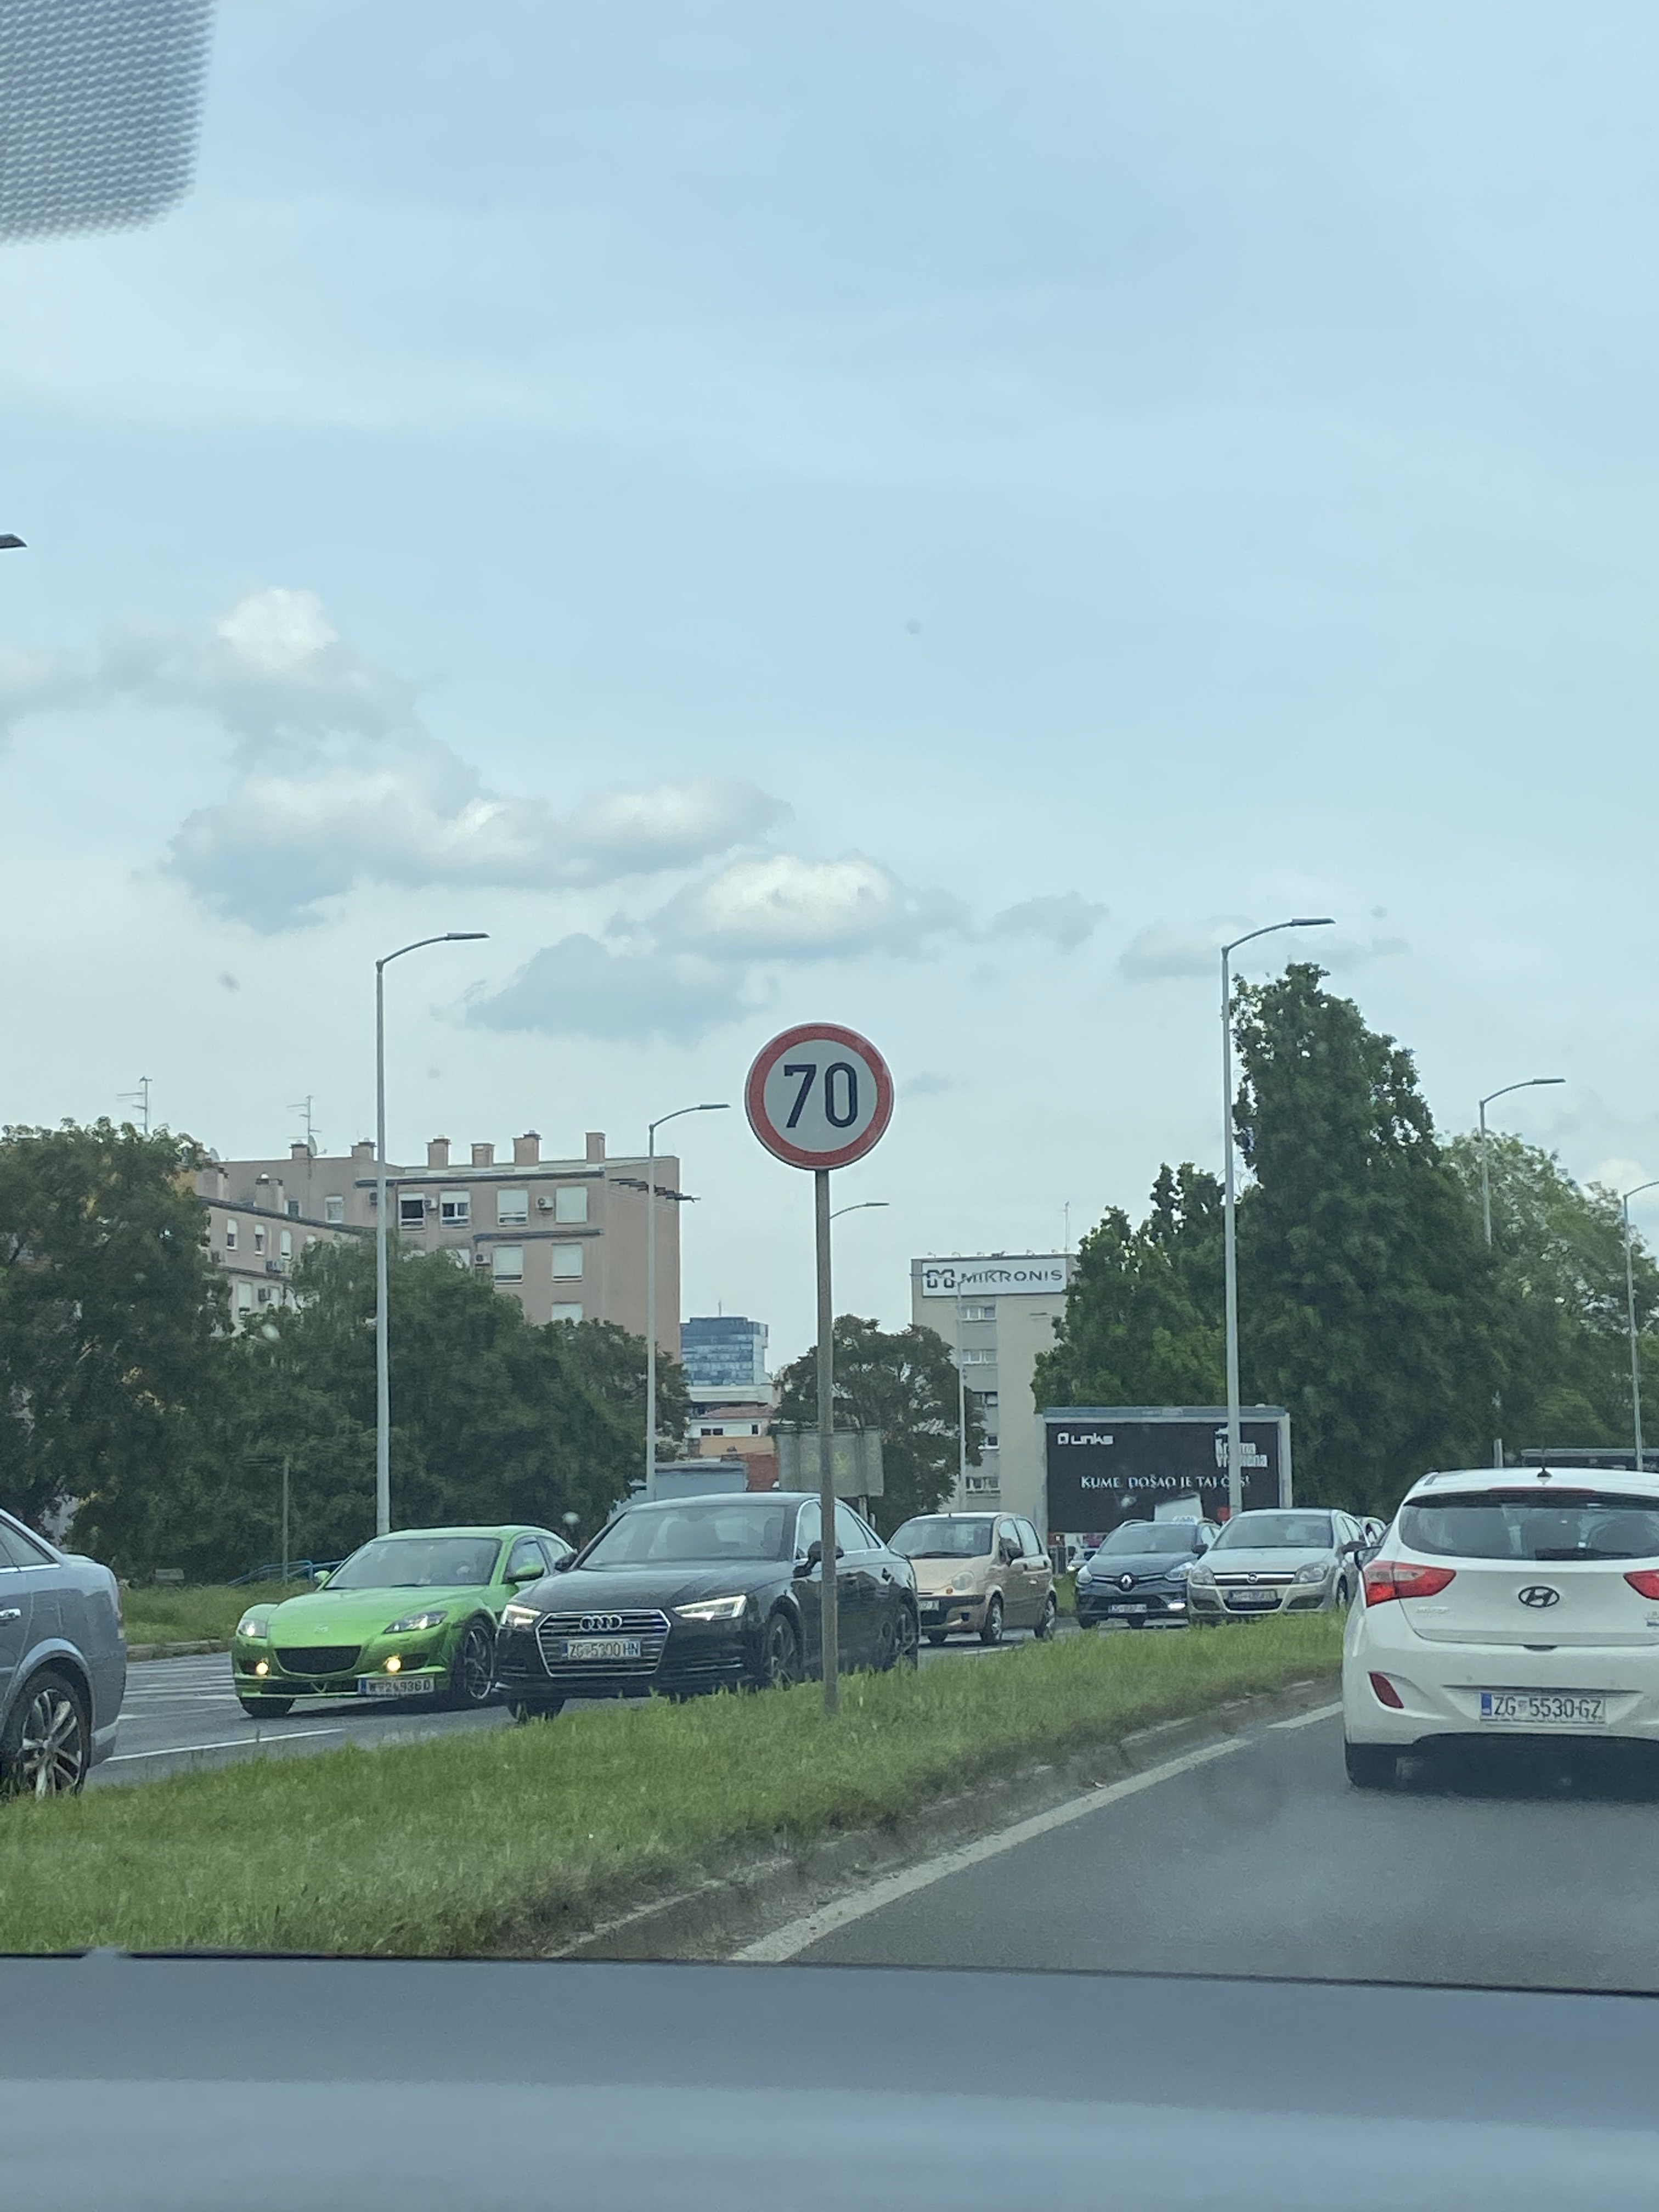Ograničenje brzine 70: (744, 1022, 894, 1170)
